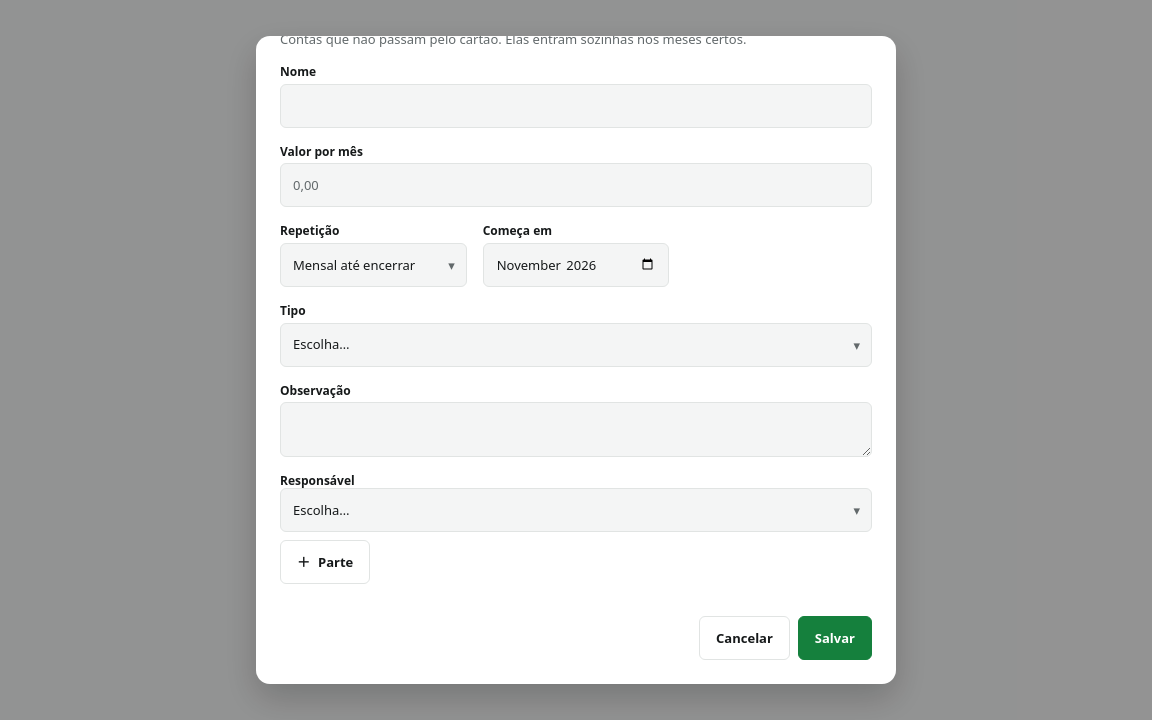
Test: FormularioConta › Salvar vazio: as mensagens do mapa, o foco no primeiro campo inválido e nada é gravado
(page scrolled)
Click the button "Salvar". click: (835, 638)
box: [798,616,872,660]
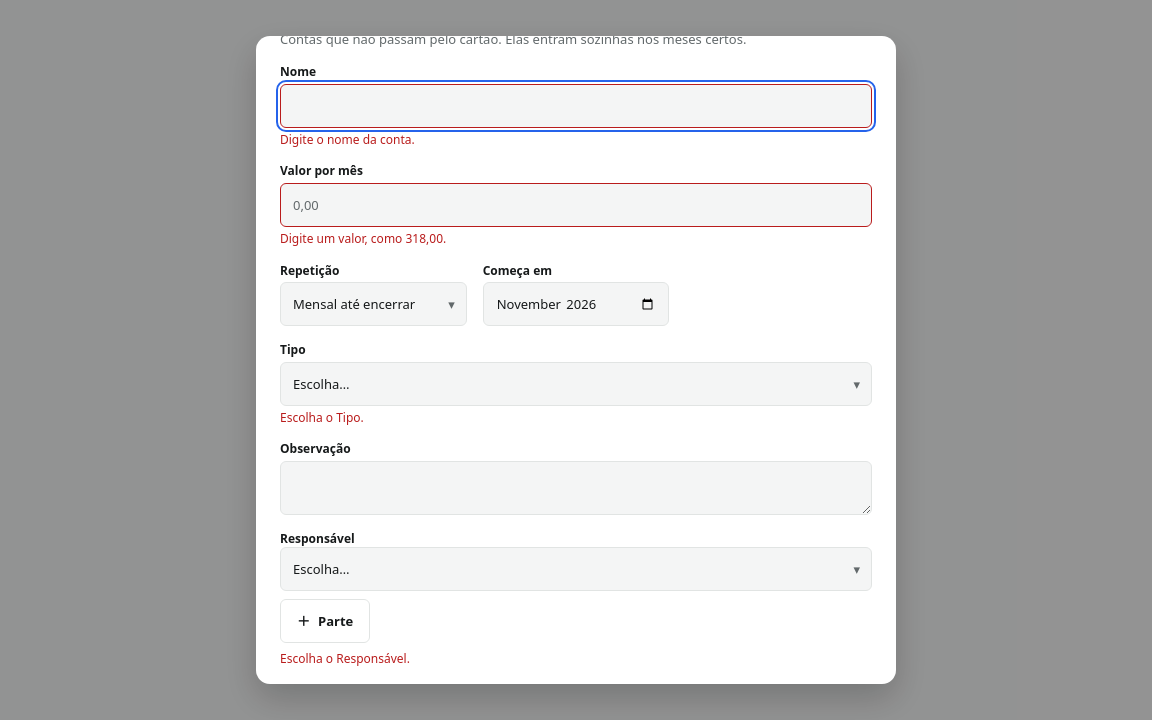
Check: the text "Digite o nome da conta." is shown, box [280,131,415,148]
Check: the text "Digite um valor, como 318,00." is shown, box [280,230,446,247]
Check: the text "Escolha o Tipo." is shown, box [280,409,364,426]
